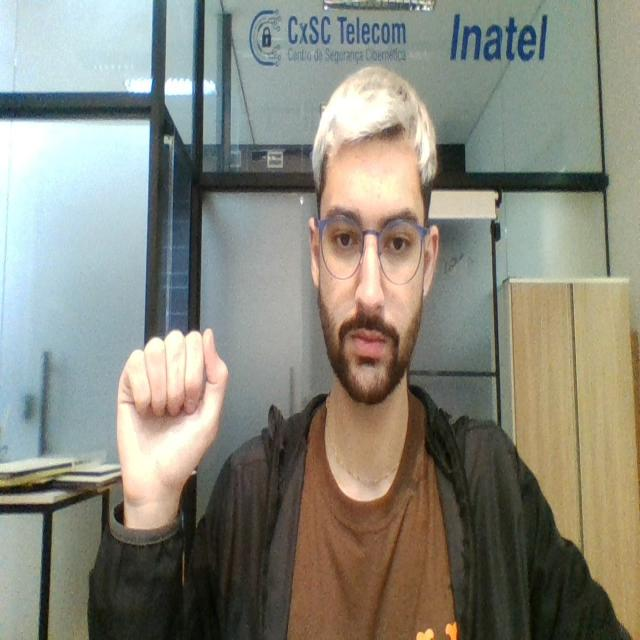A: (109, 318, 230, 492)
